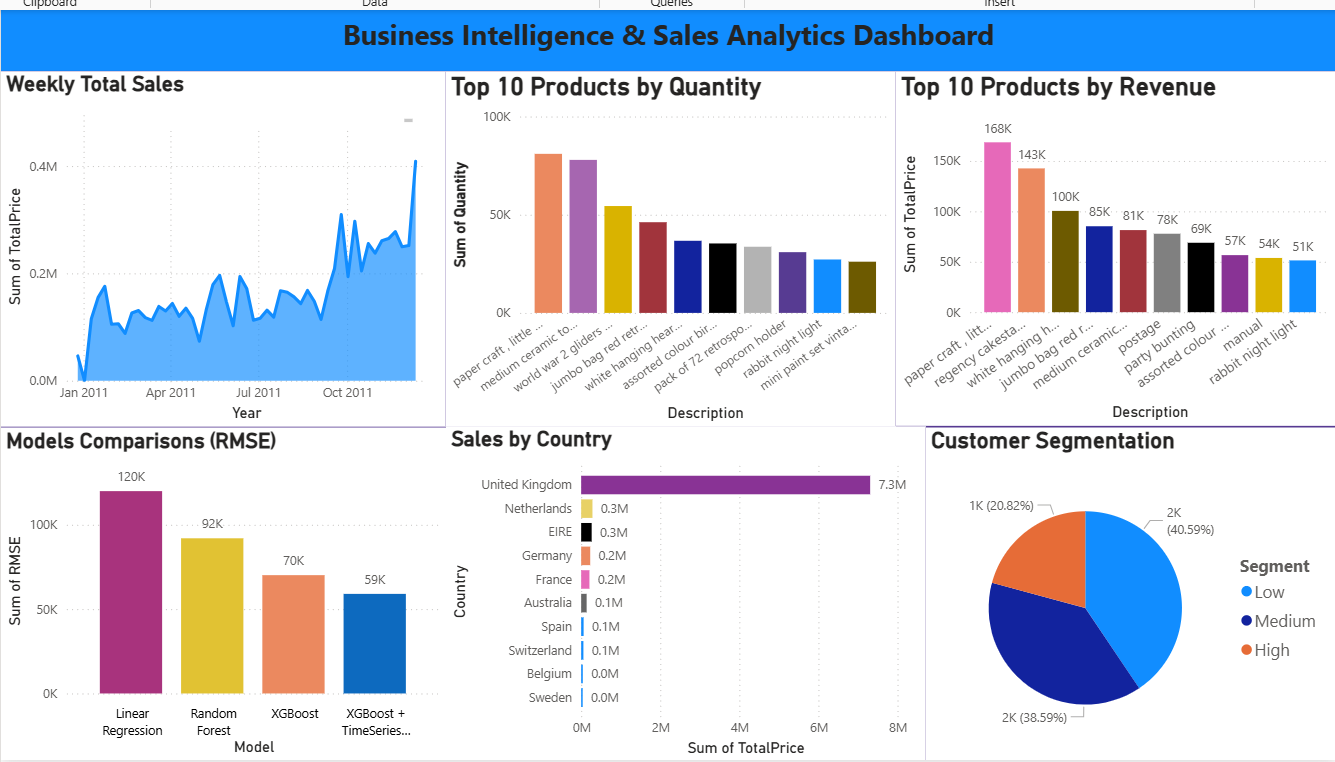

Layout of this report page (visuals, bound fields, positions):
{"tool":"powerbi","page":{"name":"Page 1","canvas":[1280,720],"ordinal":0},"visuals":[{"type":"lineChart","title":"Weekly Total Sales","fields":{"Y":["Sum(weekly_sales.TotalPrice)"],"Category":["weekly_sales.Date.Variation.Date Hierarchy.Year","weekly_sales.Date.Variation.Date Hierarchy.Quarter","weekly_sales.Date.Variation.Date Hierarchy.Month","weekly_sales.Date.Variation.Date Hierarchy.Day"]},"box":[0,58.1,426.7,340.7],"z":0},{"type":"columnChart","title":"Top 10 Products by Revenue","fields":{"Category":["cleaned_data.Description"],"Y":["Sum(cleaned_data.TotalPrice)"]},"box":[858.6,58.6,421.4,340],"z":1000},{"type":"clusteredBarChart","title":"Sales by Country","fields":{"Category":["cleaned_data.Country"],"Y":["Sum(cleaned_data.TotalPrice)"]},"box":[427.1,398.6,460,321.4],"z":2000},{"type":"pieChart","title":"Customer Segmentation","fields":{"Category":["customer_data.Segment"],"Y":["Sum(customer_data.Customer)"]},"box":[887.1,400,392.9,320],"z":3000},{"type":"columnChart","title":"Models Comparisons (RMSE)","fields":{"Category":["model_results.Model"],"Y":["Sum(model_results.RMSE)"]},"box":[0,400,427.1,320],"z":4000},{"type":"columnChart","title":"Top 10 Products by Quantity","fields":{"Category":["cleaned_data.Description"],"Y":["Sum(cleaned_data.Quantity)"]},"box":[426.7,58.1,431.4,340.7],"z":5000},{"type":"textbox","box":[100,100,300,12.9],"z":6000},{"type":"textbox","box":[0,0,1280,58.6],"z":7000}]}

Visuals, with their boxes on the page's 1280x720 design canvas (x1, y1, x2, y2). These are canvas units, not pixel positions in the 1335x762 screenshot, which may show the page scaled, cropped or inside an application window:
"Weekly Total Sales" lineChart: 0/58/427/399
"Top 10 Products by Revenue" columnChart: 859/59/1280/399
"Sales by Country" clusteredBarChart: 427/399/887/720
"Customer Segmentation" pieChart: 887/400/1280/720
"Models Comparisons (RMSE)" columnChart: 0/400/427/720
"Top 10 Products by Quantity" columnChart: 427/58/858/399
textbox: 100/100/400/113
textbox: 0/0/1280/59
